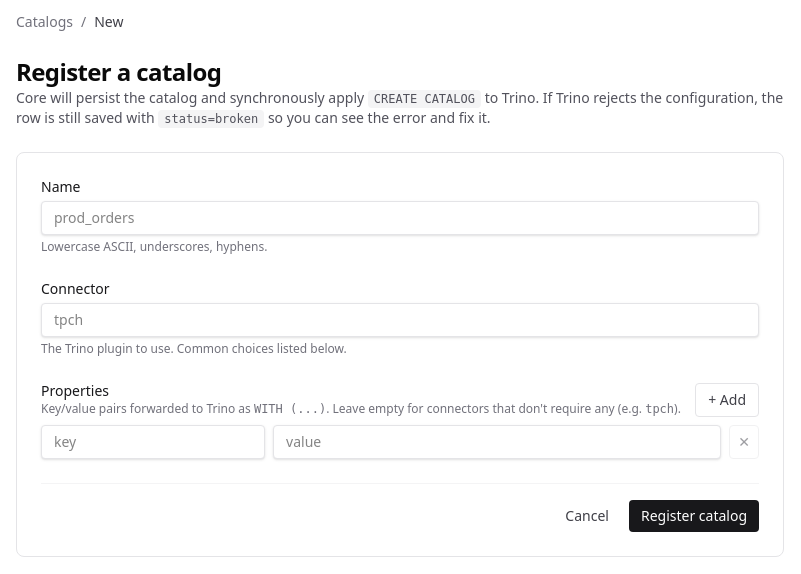
it: NewCatalog form › validates required fields on submit
Click the button with test id "submit-button" at (694, 516), box [629,500,759,532]
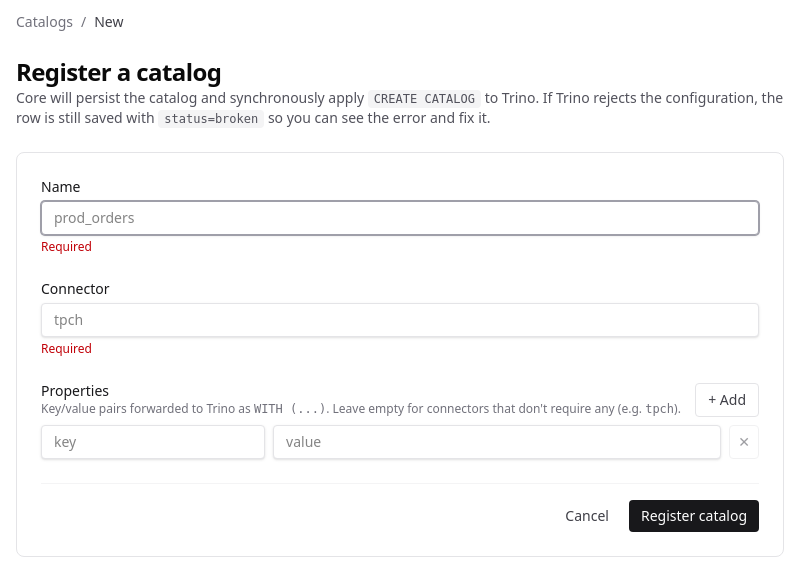
Expected: the text with test id "error-name" is shown, [41,238,92,255]
Expected: the text with test id "error-connector" is shown, [41,340,92,357]
